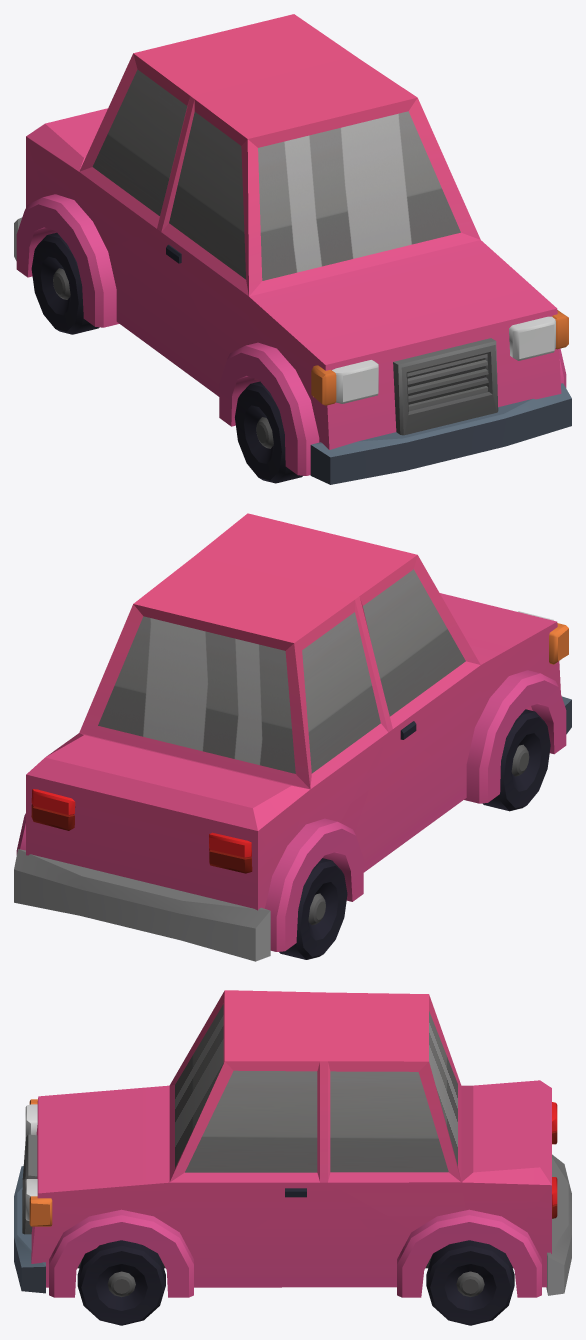
The model's file is Car_2_15.fbx.
3 views of the same model, one above another, from view 1: azimuth 30°, elevation 25°; view 2: azimuth 150°, elevation 25°; view 3: azimuth 270°, elevation 25° (orthographic). The views are drawn at different scales.
Parts seen in each view (by area): view 1: Car_2_15, W_BR, W_FR; view 2: Car_2_15, W_FR, W_BR; view 3: Car_2_15, W_BL, W_FL.
Boxes of the visible parts, x1,y1,x2,y2 form: Car_2_15: [14, 14, 571, 484]; W_BR: [31, 232, 99, 334]; W_FR: [235, 381, 302, 483]; Car_2_15: [14, 513, 571, 961]; W_FR: [482, 709, 550, 811]; W_BR: [279, 858, 347, 959]; Car_2_15: [14, 990, 571, 1297]; W_BL: [426, 1240, 514, 1325]; W_FL: [77, 1240, 165, 1325].
Bounding box in the file's own units: 1.09 × 1.11 × 2.28.
